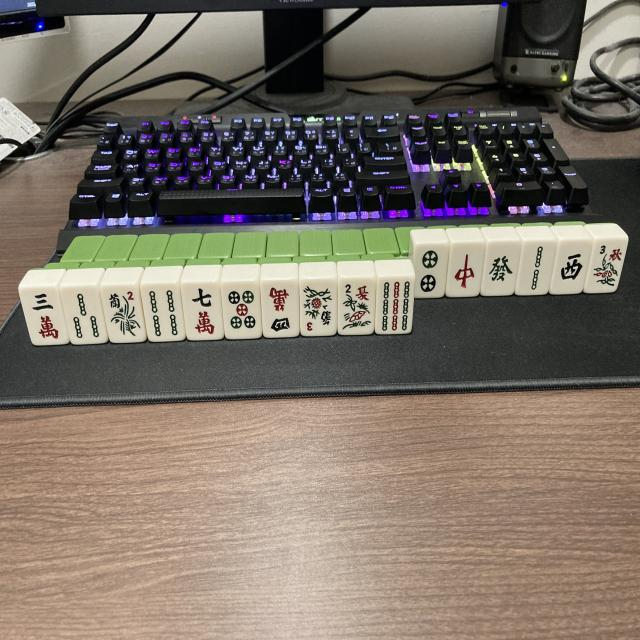f2: (101, 288, 144, 343)
f3: (300, 282, 338, 336)
fa: (480, 242, 521, 298)
ff2: (337, 280, 376, 334)
ff3: (584, 241, 628, 294)
m3: (19, 287, 68, 345)
m4: (262, 282, 300, 338)
m7: (184, 284, 225, 342)
s2: (516, 244, 555, 296)
s3: (61, 288, 105, 344)
s4: (144, 287, 186, 342)
s9: (376, 277, 414, 333)
t2: (414, 245, 450, 298)
t5: (222, 281, 262, 338)
west: (549, 242, 591, 296)
zhong: (446, 245, 484, 298)
